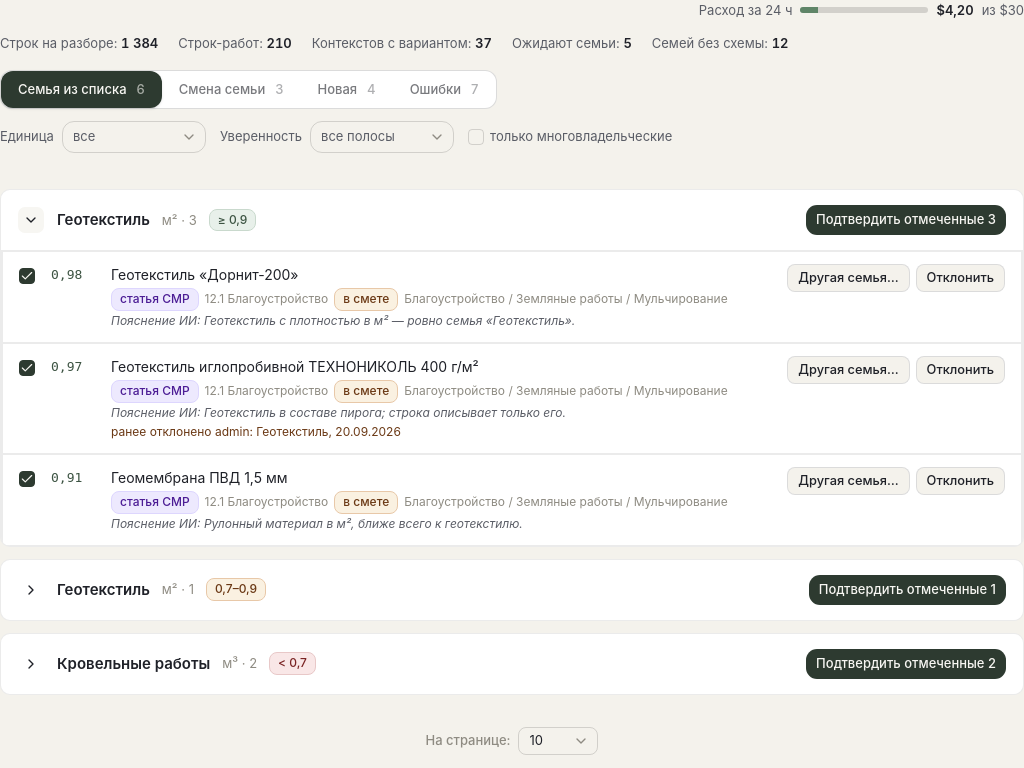
SuggestionsTab — решения в очередях «Новая» и «Ошибки» › «Завести семью…»: строка уходит из очереди, счётчик убывает, в шапке — «список семей изменён»
The width and height of the screenshot is (1024, 768).
Click the tab "Новая 4": (347, 89) [300,71,393,108]
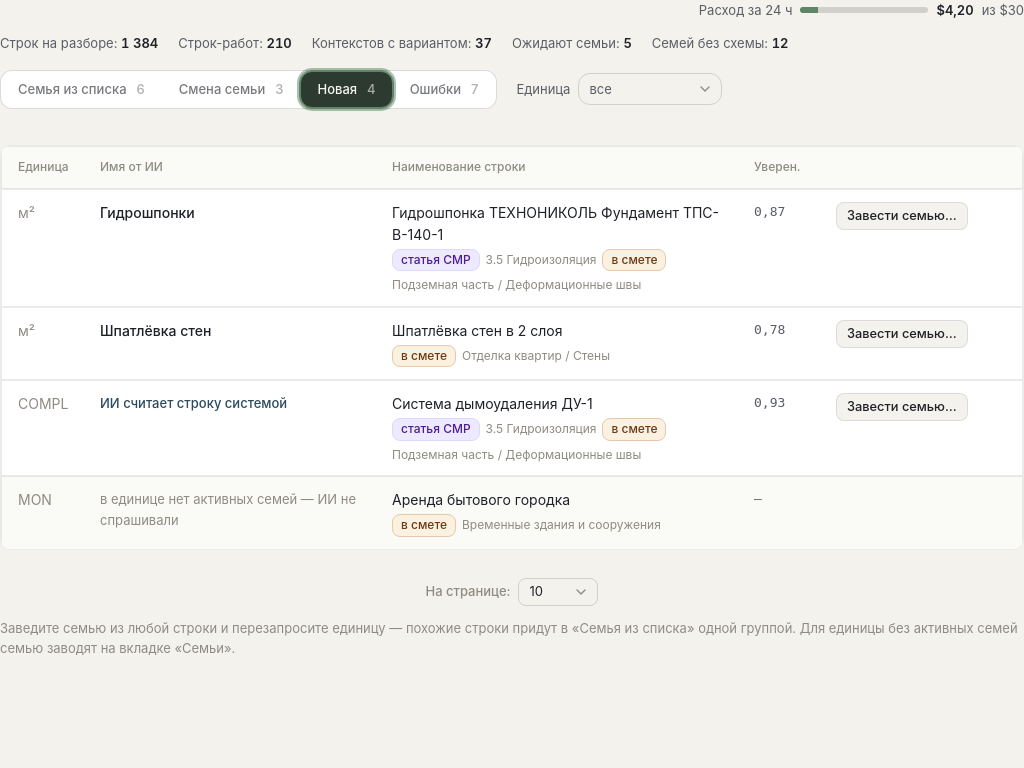
Now the element with test id "new-queue" is shown, box [0,145,1023,550]
Click the button "Завести семью…" next to "0,87": (902, 216) [836,202,968,230]
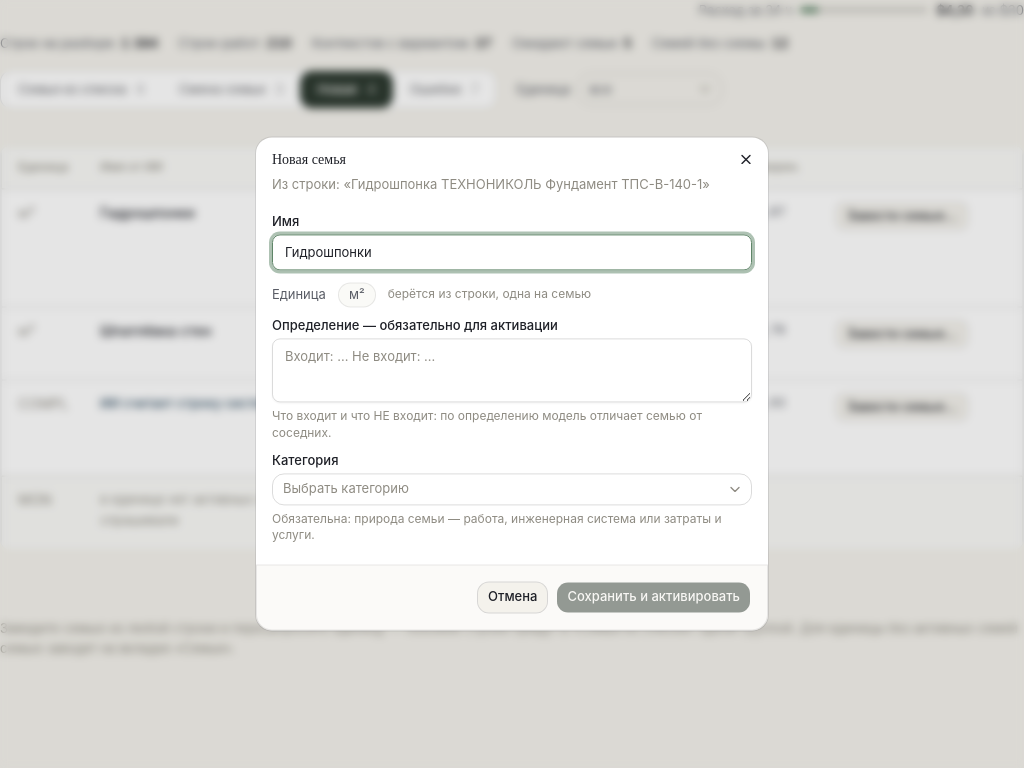
In the text box labelled "Определение — обязательно для активации": (512, 370) [272,338,752,402], type "Входит: шпонки. Не входит: мастики."
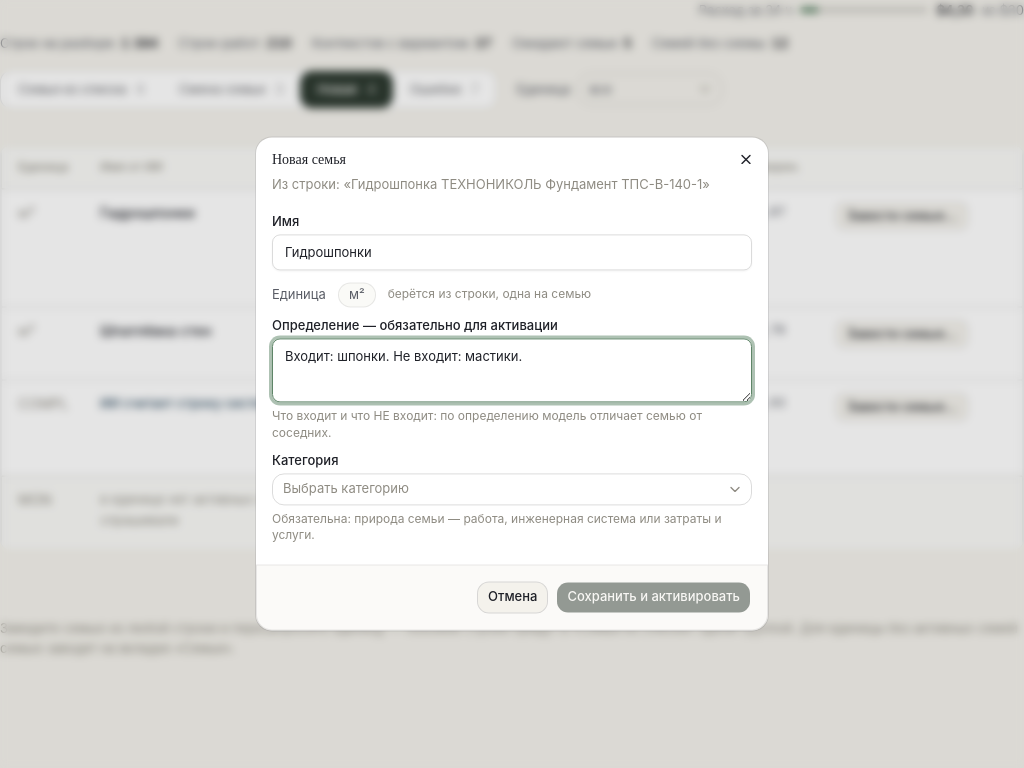
Click the dropdown named "Категория": (346, 488) [272,473,752,505]
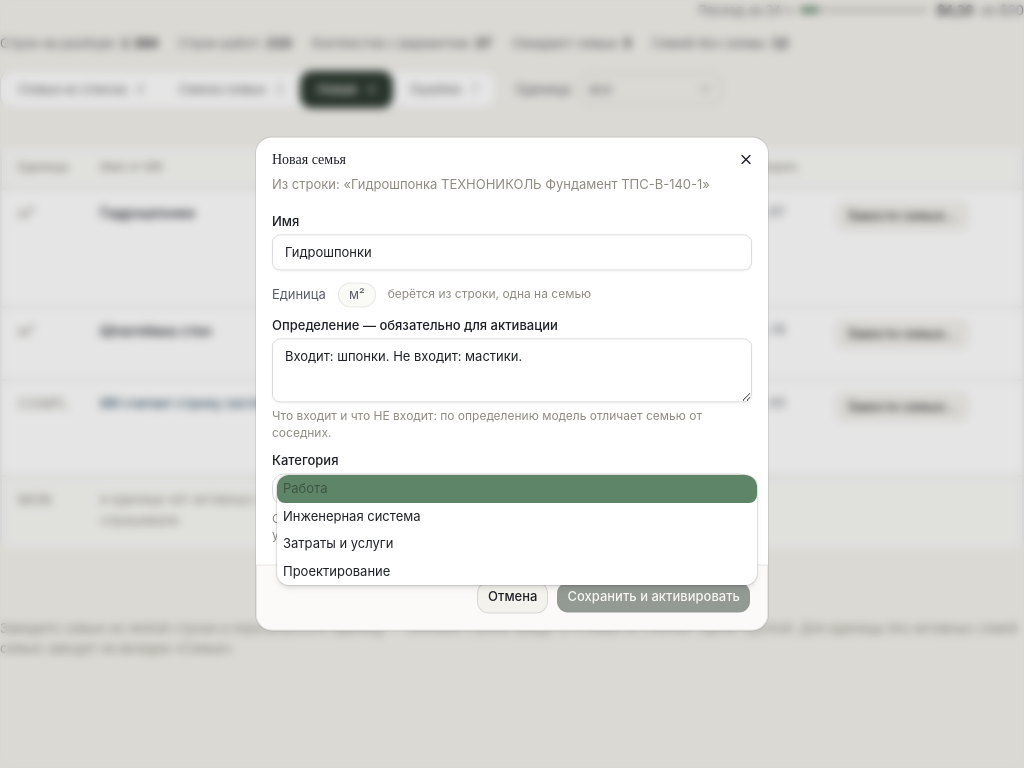
Click the option "Работа": (305, 488) [277,475,757,503]
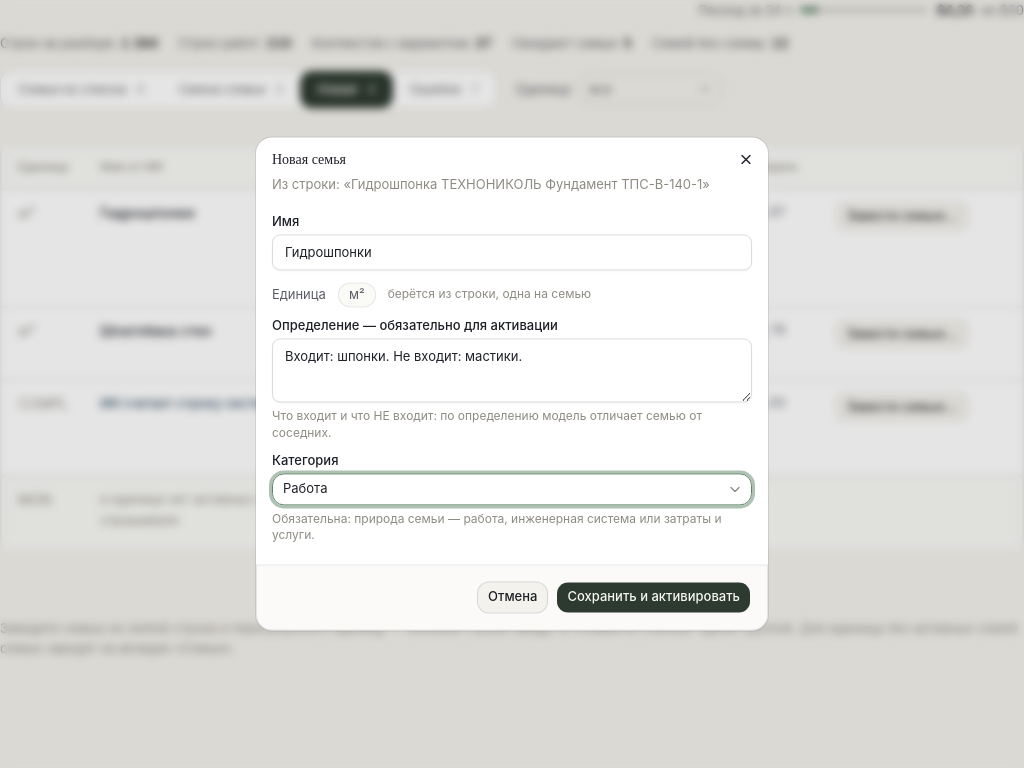
Click the button "Сохранить и активировать": (654, 598) [556,582,751,614]
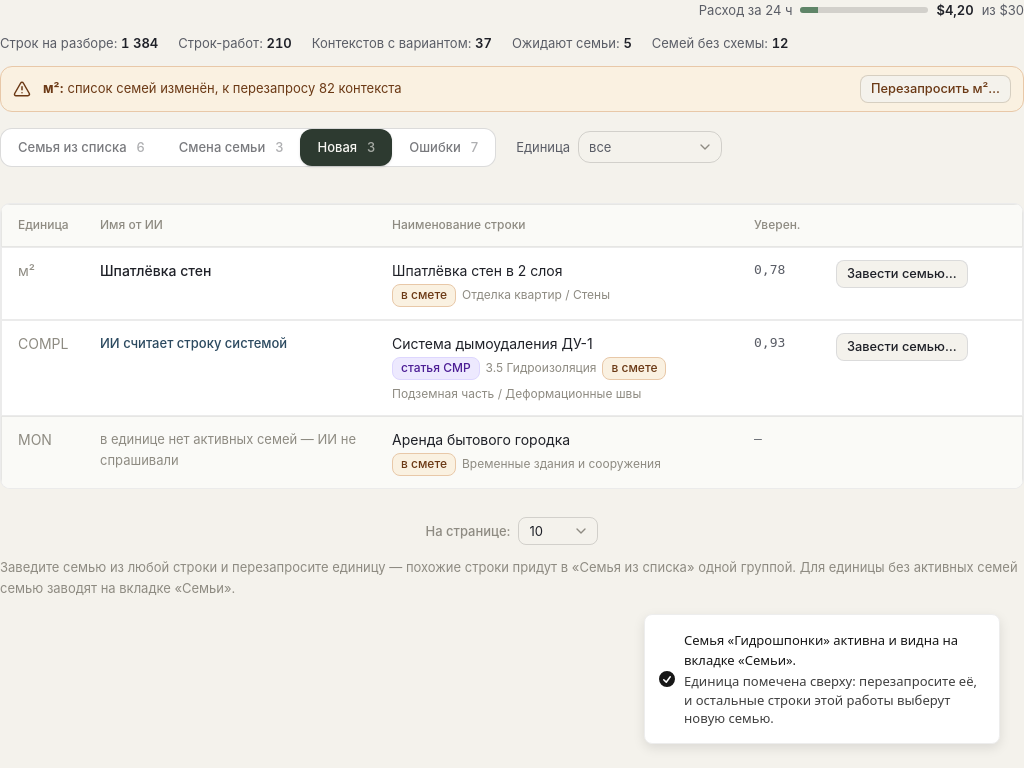
Now the number of elements with test id "new-row" is 3, box [1,247,1023,320]; [1,320,1023,416]; [1,416,1023,488]
Now the text "Гидрошпонка ТЕХНОНИКОЛЬ" is gone
Now the tab "Новая 3" is shown, box [300,129,392,166]
